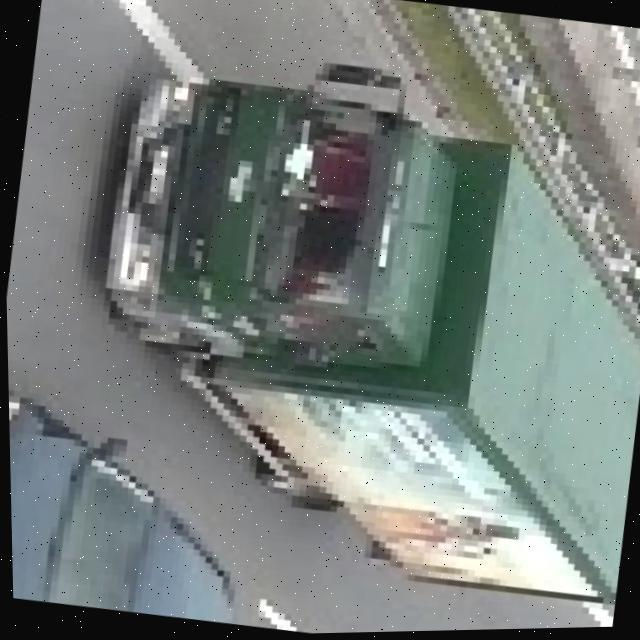truck: (64, 36, 640, 622)
